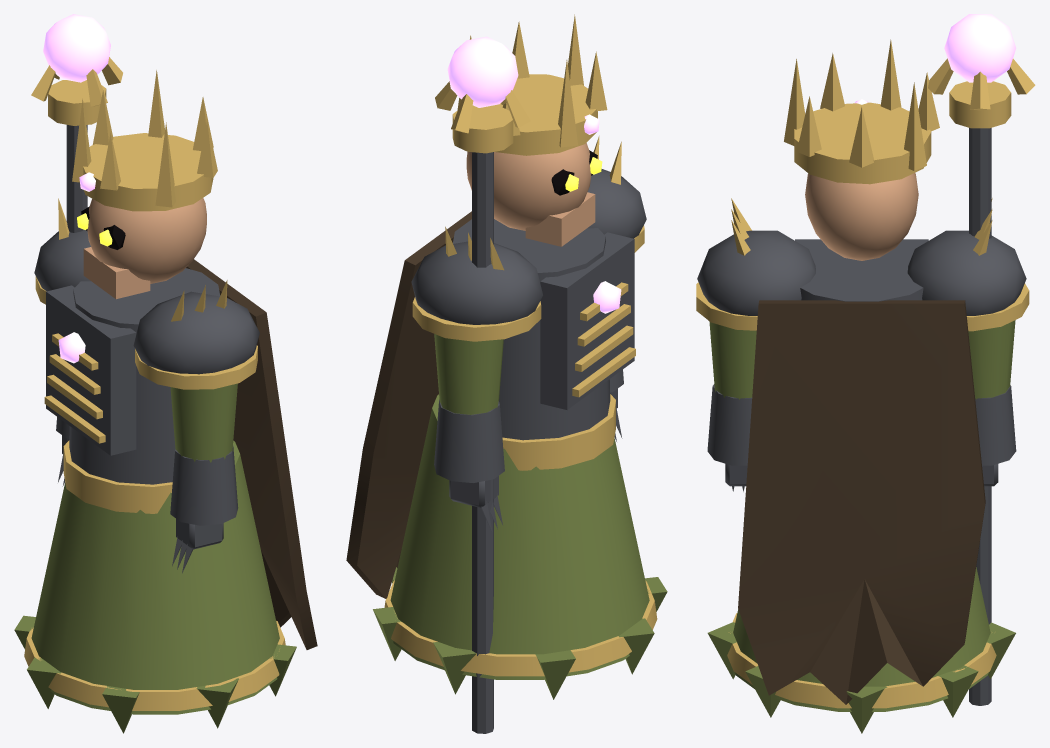
The model's file is m_hollowking.glb.
3 views of the same model, side by side, from view 1: azimuth 30°, elevation 25°; view 2: azimuth 150°, elevation 25°; view 3: azimuth 270°, elevation 25° (orthographic). The views are drawn at different scales.
Visible parts, largest first — view 1: robe, body, cape, crown, armL, head, staff; view 2: robe, body, cape, staff, armR, head, crown; view 3: cape, body, crown, staff, robe, head, armL, armR.
Part boxes in pixels (x1,y1,x2,y2): robe: (14, 440, 296, 733); body: (34, 198, 259, 513); cape: (186, 259, 317, 649); crown: (72, 70, 217, 211); armL: (170, 383, 238, 573); head: (77, 198, 206, 299); staff: (31, 14, 122, 441); robe: (373, 394, 667, 699); body: (411, 136, 646, 470); cape: (346, 211, 471, 598); staff: (435, 36, 530, 733); armR: (434, 334, 504, 532); head: (466, 143, 602, 246); crown: (457, 14, 607, 155); cape: (738, 300, 985, 704); body: (696, 198, 1029, 331); crown: (784, 39, 939, 184); staff: (928, 14, 1035, 705); robe: (707, 567, 1015, 733); head: (805, 173, 918, 260); armL: (707, 321, 756, 491); armR: (968, 320, 1016, 486).
Size of the model in its own units: 0.6 by 1.47 by 0.6587.
